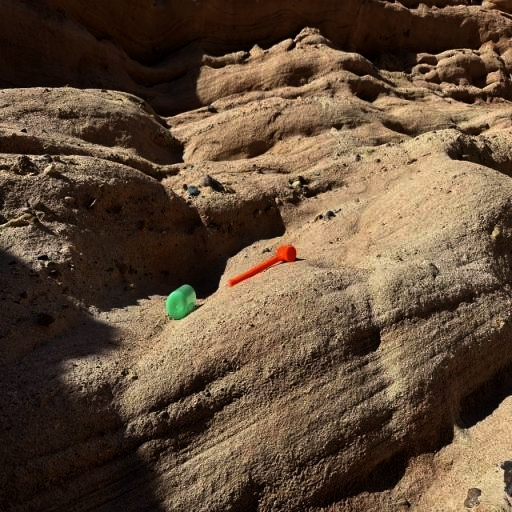bottle: (166, 284, 196, 320)
mallet: (228, 246, 296, 287)
